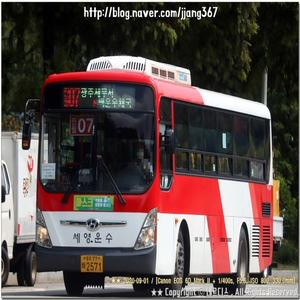07bus: (37, 57, 280, 282)
